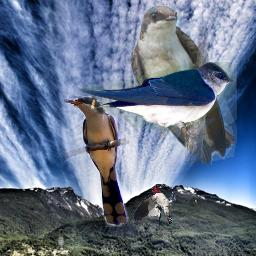Cuckoo: (64, 96, 129, 227)
Swallow: (130, 5, 237, 166), (79, 62, 236, 140)
Woodpecker: (133, 184, 176, 227)
